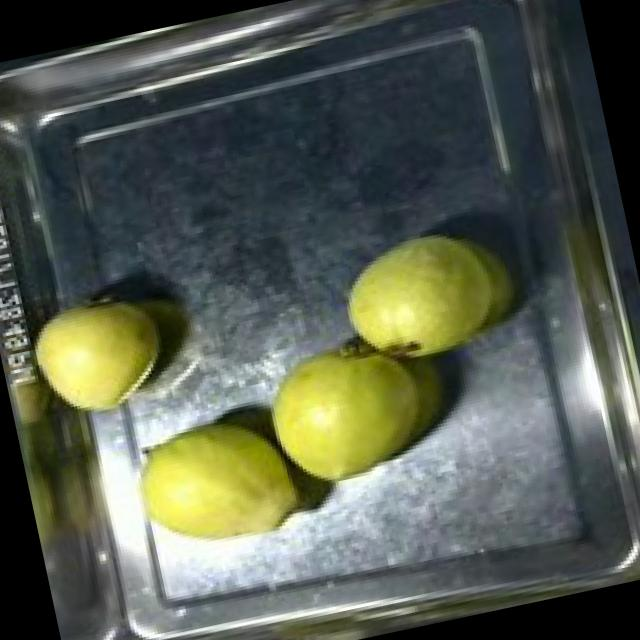Fruit: (247, 318, 468, 502), (324, 210, 528, 378), (115, 396, 313, 567), (22, 276, 184, 434)
